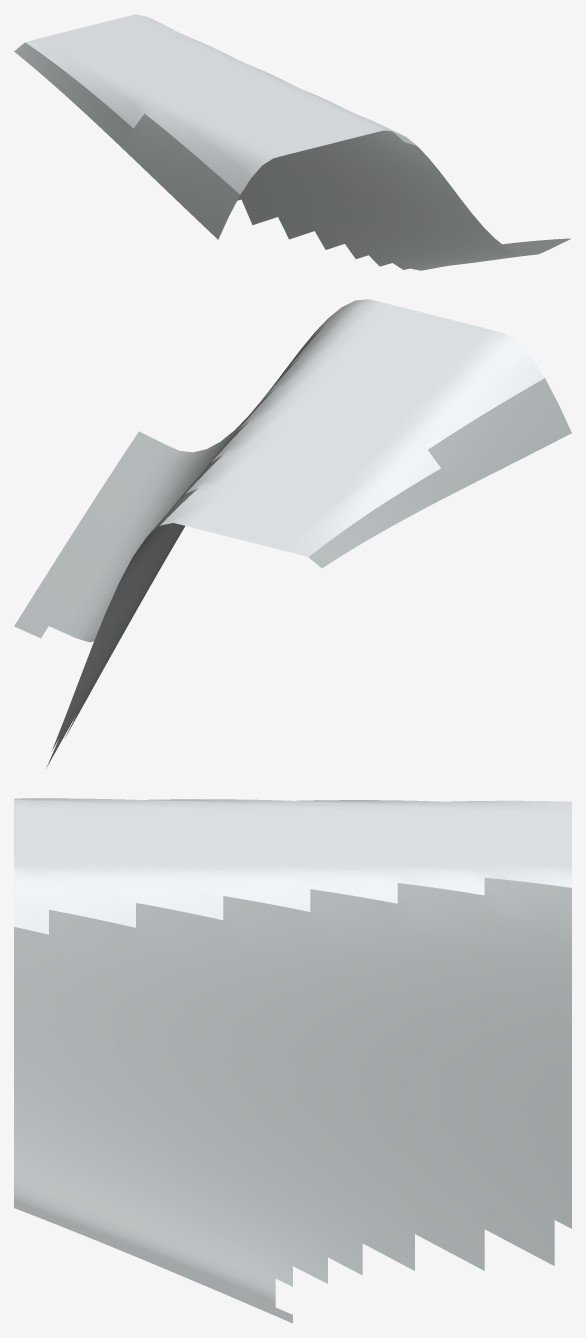
Rendered from alpine-12-7.glb.
3 views of the same model, one above another, from view 1: azimuth 30°, elevation 25°; view 2: azimuth 150°, elevation 25°; view 3: azimuth 270°, elevation 25° (orthographic). The views are drawn at different scales.
Visible parts, largest first — view 1: alpine-12-7; view 2: alpine-12-7; view 3: alpine-12-7.
Boxes of the visible parts, left/top/right/bottom form: alpine-12-7: left=14, top=14, right=571, bottom=270; alpine-12-7: left=14, top=299, right=571, bottom=768; alpine-12-7: left=14, top=798, right=571, bottom=1323.
Size of the model in its own units: 256 by 177 by 256.
2 materials, 2 textured.
